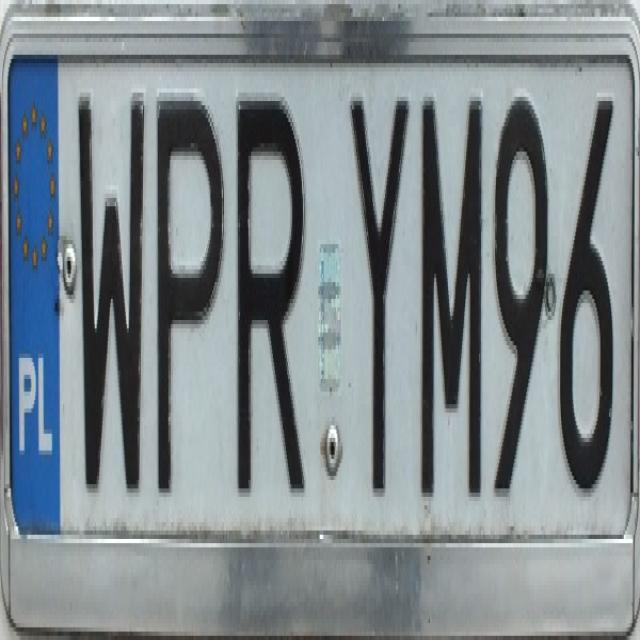pl_license_plate: (9, 54, 632, 534)
